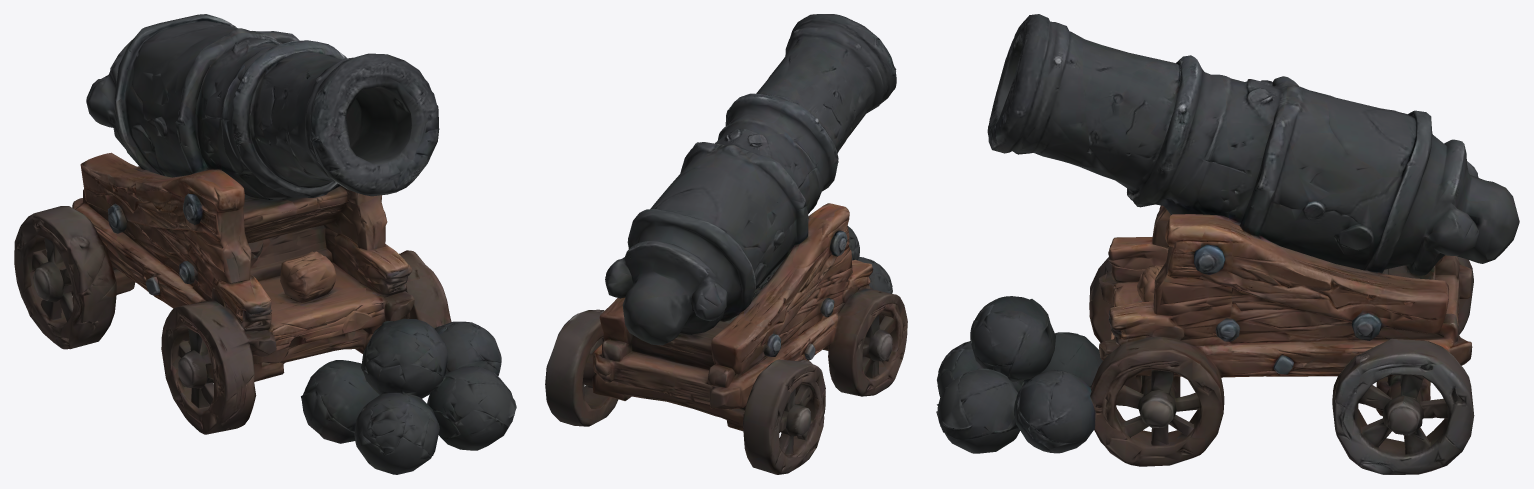
Rendered from canon.glb.
3 renders of one model, left to right at view 1: azimuth 30°, elevation 25°; view 2: azimuth 150°, elevation 25°; view 3: azimuth 270°, elevation 25°, orthographic. The views are drawn at different scales.
Bounding box in the file's own units: 0.5783 × 0.7352 × 0.9821.
1 material, 1 textured.
